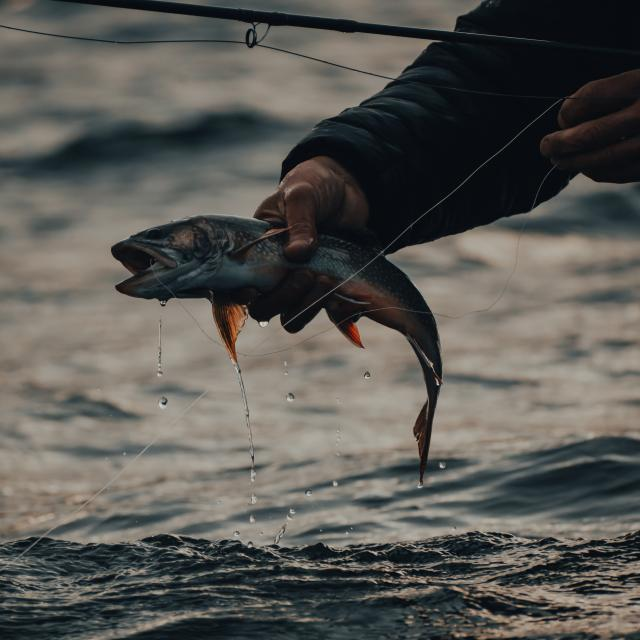Fish: (96, 185, 510, 405)
